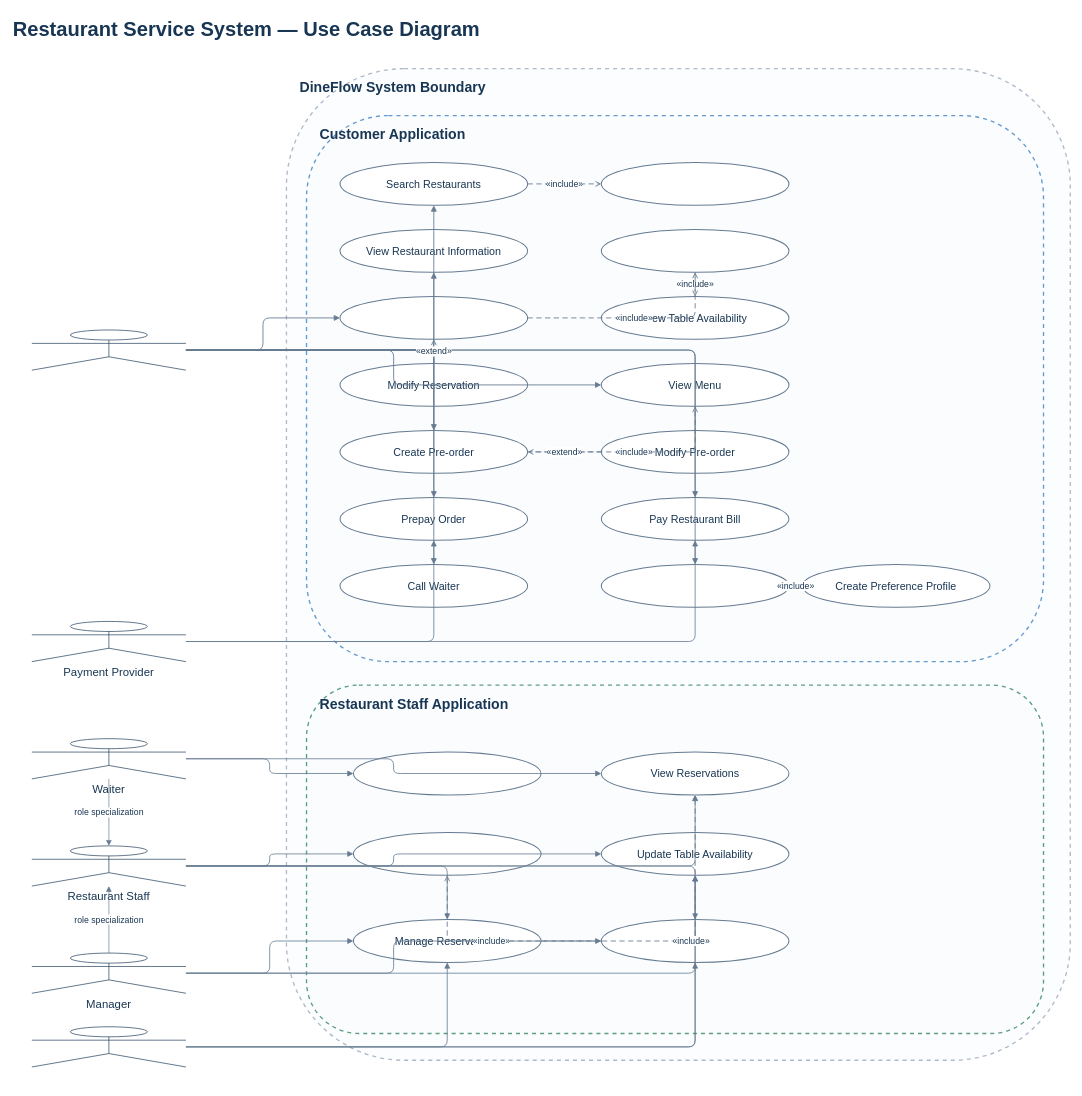
This 1082x1096 diagram has some shape labels left out. The shapes that lost their labels are listed below. From the top down, each one's box as (x1, y1, x2, y2) in pixels, then its label:
(601, 162, 789, 206): Filter Restaurants
(601, 229, 789, 273): View Floor Plan
(339, 296, 528, 340): Book Table
(31, 329, 186, 370): Customer
(601, 564, 789, 608): Receive Recommendations
(353, 751, 541, 795): Receive Waiter-call Notification
(353, 832, 541, 876): View Pre-orders
(601, 919, 789, 963): Manage Pre-orders
(31, 1026, 186, 1067): Restaurant POS System
